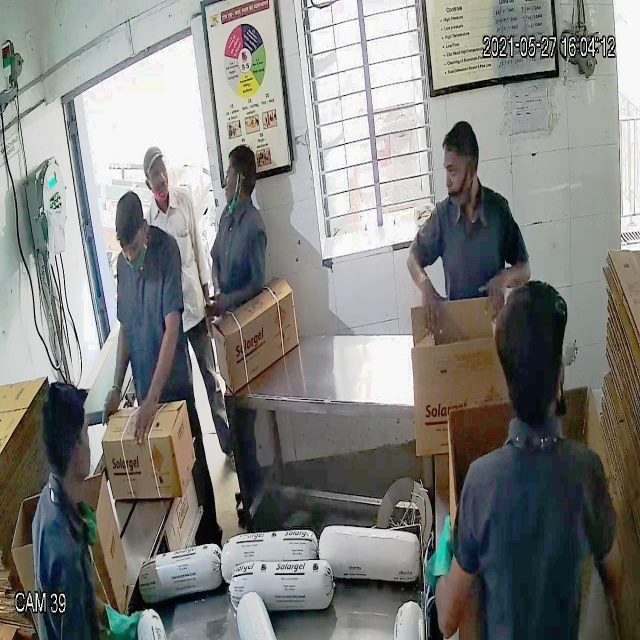Sin_gafas: (438, 151, 481, 187)
